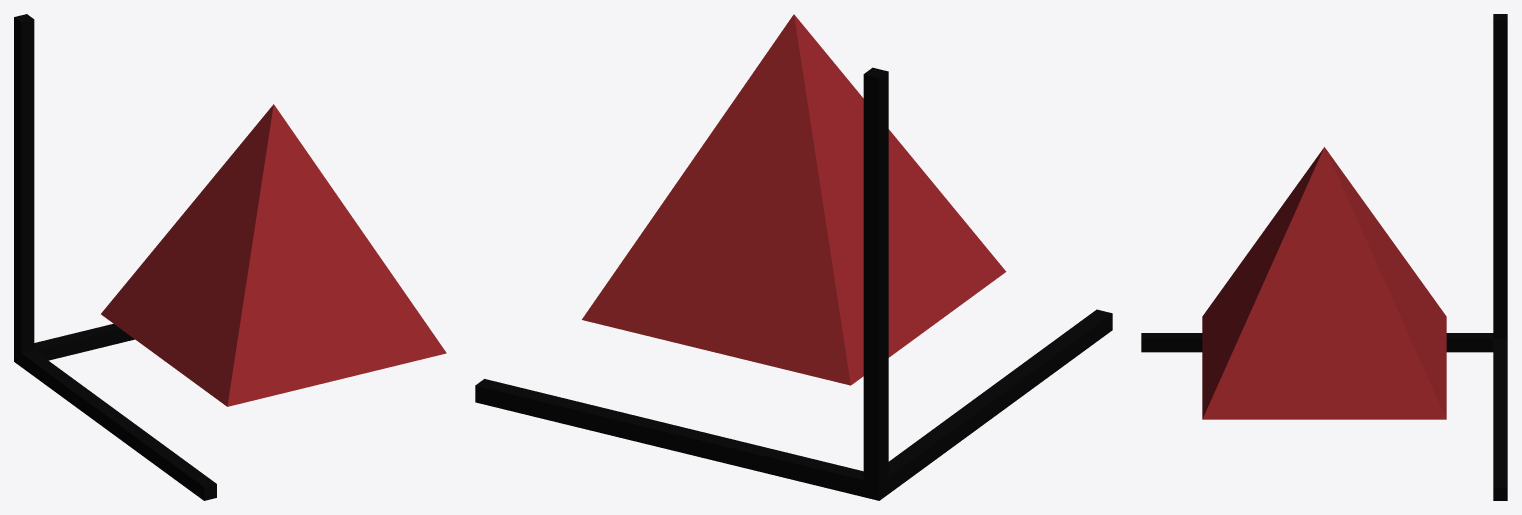
The model's file is piramide.fbx.
The picture shows the model from 3 angles, left to right: view 1: azimuth 30°, elevation 25°; view 2: azimuth 150°, elevation 25°; view 3: azimuth 270°, elevation 25°; orthographic projection. The views are drawn at different scales.
Visible parts, largest first — view 1: Mesh_1.005, Mesh_0.008; view 2: Mesh_1.005, Mesh_0.008; view 3: Mesh_1.005, Mesh_0.008.
Boxes of the visible parts, bbox=[...] form: Mesh_1.005: bbox=[101, 104, 446, 406]; Mesh_0.008: bbox=[14, 14, 216, 500]; Mesh_1.005: bbox=[582, 14, 1006, 385]; Mesh_0.008: bbox=[475, 67, 1112, 500]; Mesh_1.005: bbox=[1202, 147, 1446, 419]; Mesh_0.008: bbox=[1141, 14, 1507, 500].
Bounding box in the file's own units: 6 × 6 × 6.
